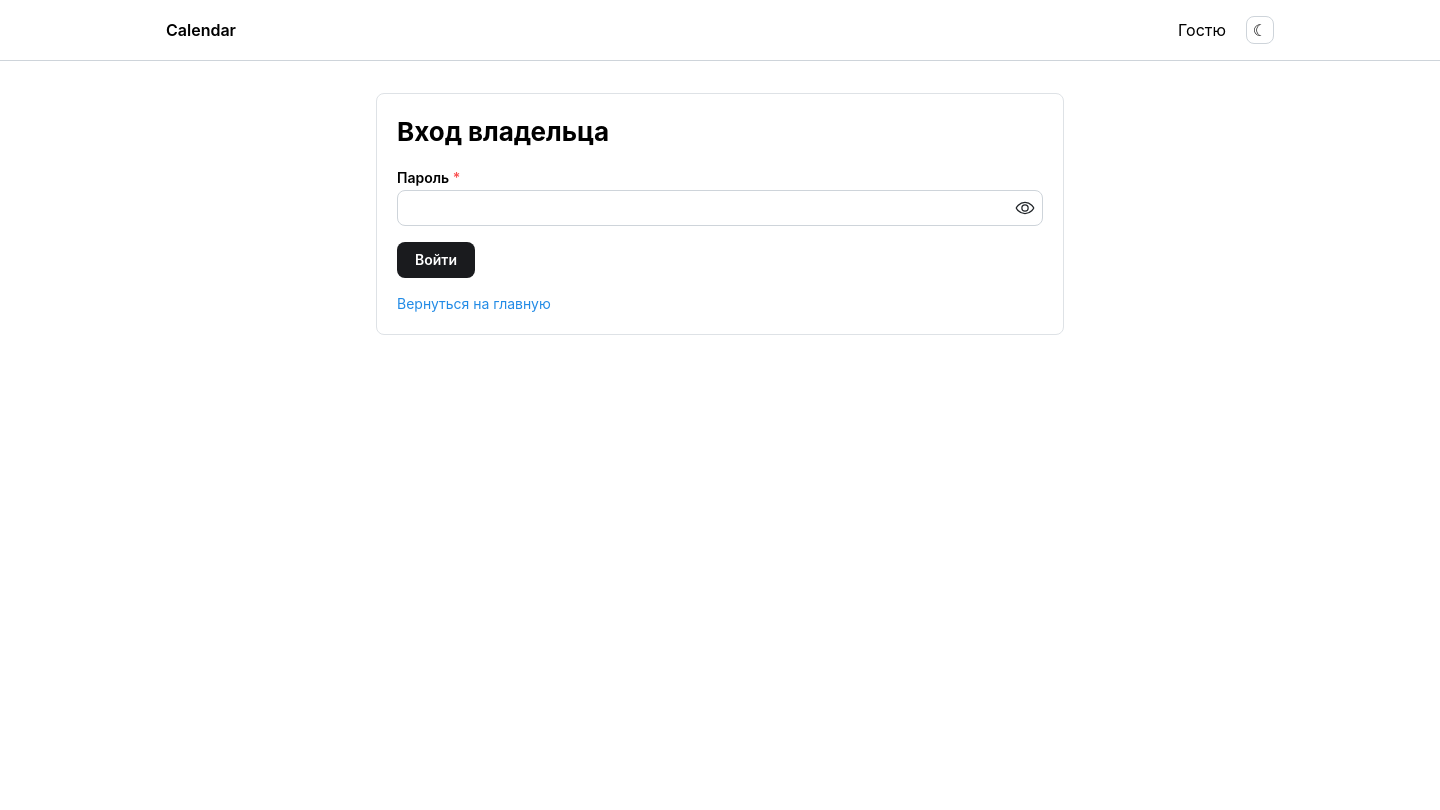
Scenario: signs in with the correct password and opens the owner area
This screenshot has width=1440, height=810.
Type "correct" into the password field labelled "Пароль *".
click(720, 208); type("correct")  # box [398,191,1042,225]
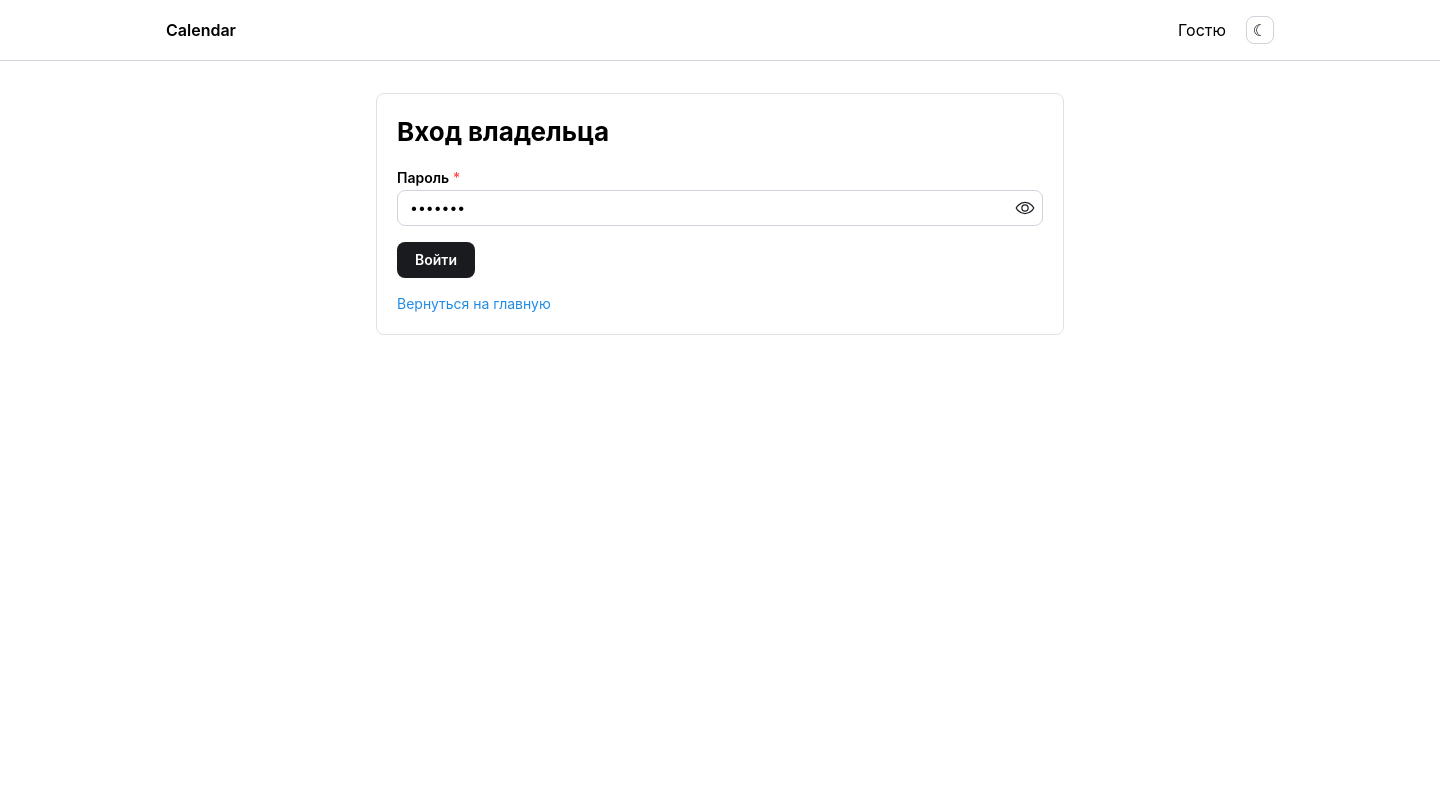
Click the button "Войти".
click(436, 260)  # box [397,242,475,278]
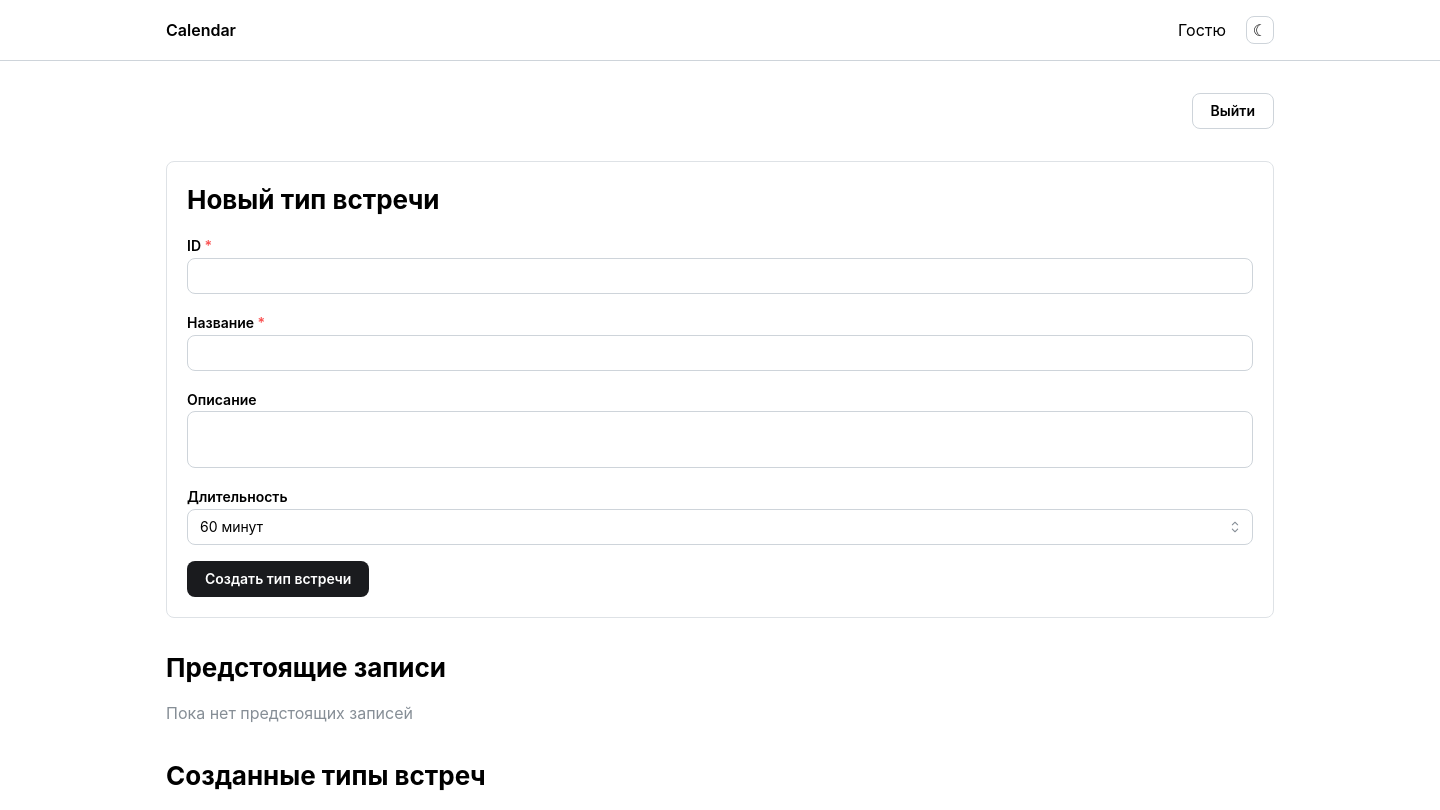
Result: the button "Создать тип встречи" is shown at [187,561,369,597]
